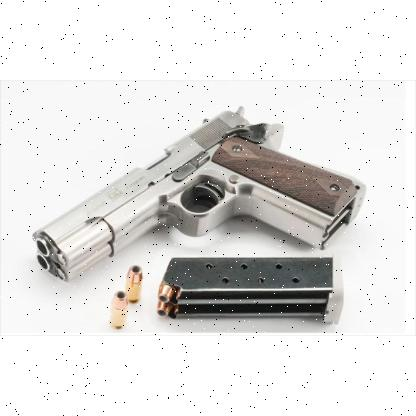gun: (32, 105, 366, 283)
